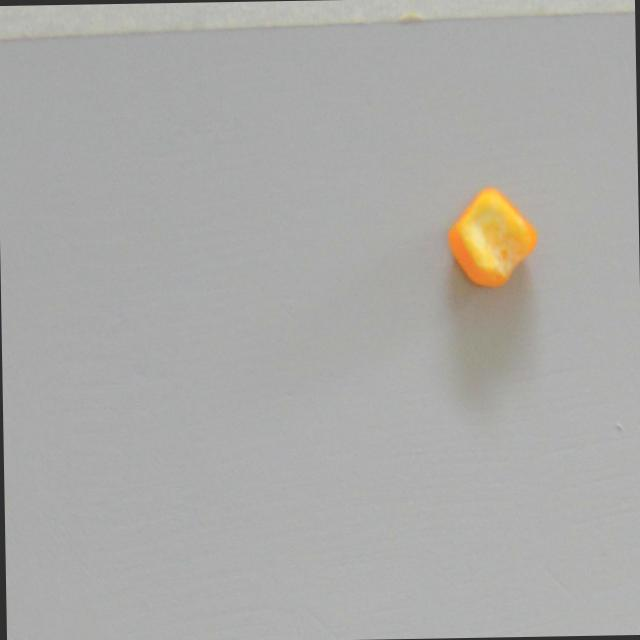no_desgerminado: (444, 186, 544, 297)
